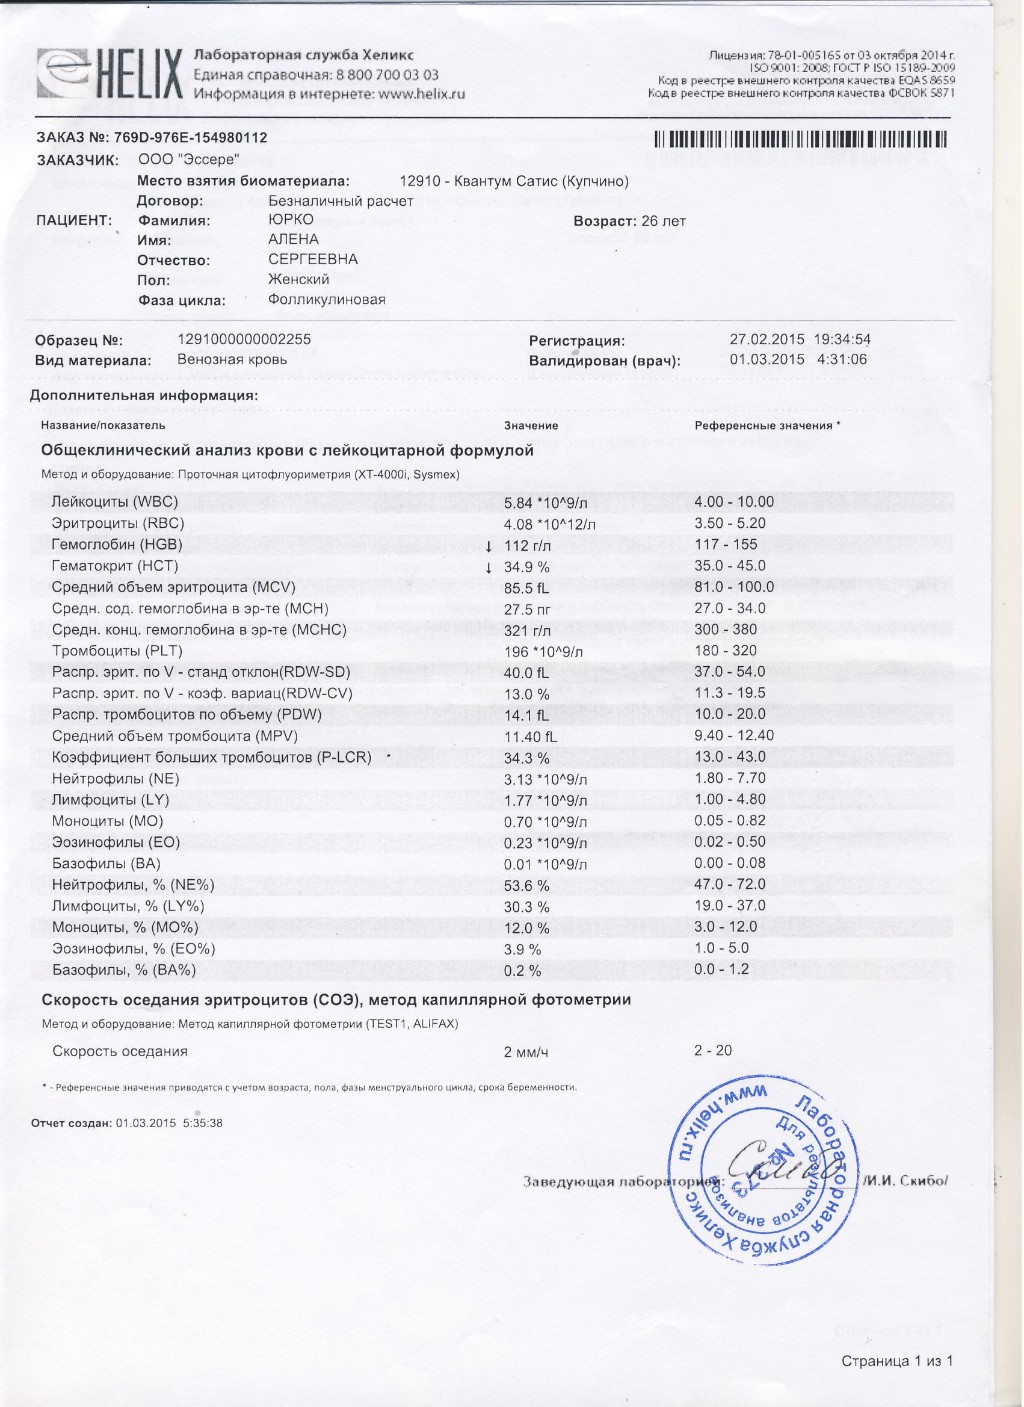column: (50, 494, 372, 978), (503, 494, 595, 978), (694, 494, 774, 978), (52, 1043, 187, 1059), (695, 419, 832, 431), (40, 419, 165, 431), (503, 1043, 548, 1059), (504, 419, 558, 431), (694, 1043, 732, 1059)
